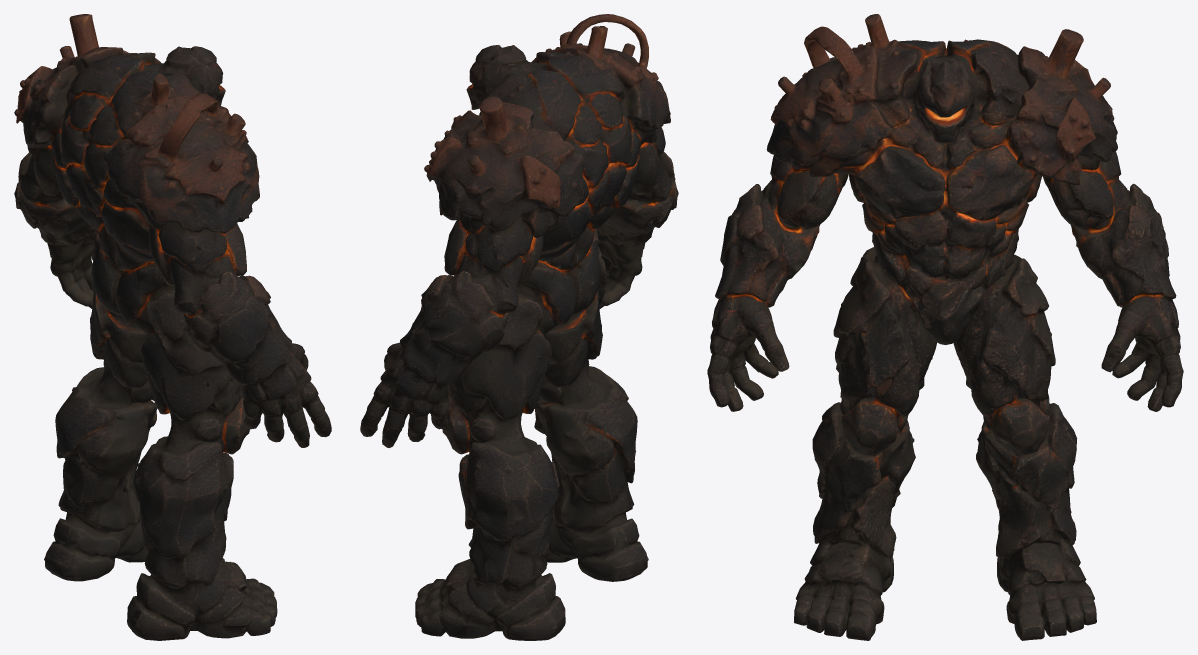
File: slag_walker.glb
3 views of the same model, side by side, from view 1: azimuth 30°, elevation 25°; view 2: azimuth 150°, elevation 25°; view 3: azimuth 270°, elevation 25° (orthographic). The views are drawn at different scales.
Parts seen in each view (by area): view 1: weapon; view 2: weapon; view 3: weapon.
Boxes of the visible parts, bbox=[...] form: weapon: bbox=[14, 14, 331, 640]; weapon: bbox=[360, 14, 678, 640]; weapon: bbox=[707, 14, 1183, 640].
Size of the model in its own units: 0.3056 by 1 by 0.7502.
1 material, 1 textured.
